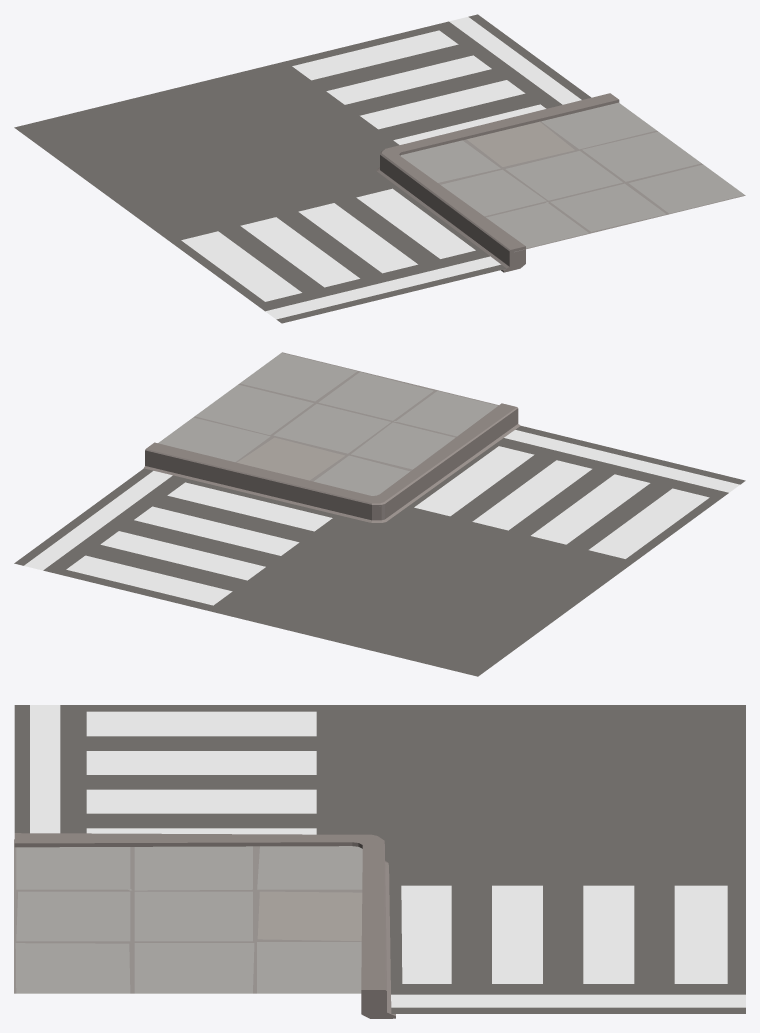
Rendered from Road_05.fbx.
3 views of the same model, one above another, from view 1: azimuth 30°, elevation 25°; view 2: azimuth 150°, elevation 25°; view 3: azimuth 270°, elevation 25° (orthographic). The views are drawn at different scales.
Parts seen in each view (by area): view 1: Road_05; view 2: Road_05; view 3: Road_05.
Part boxes in pixels (bbox=[...]): Road_05: bbox=[14, 14, 745, 323]; Road_05: bbox=[14, 352, 745, 676]; Road_05: bbox=[14, 705, 745, 1018].
Bounding box in the file's own units: 12.01 × 0.5208 × 12.01.
